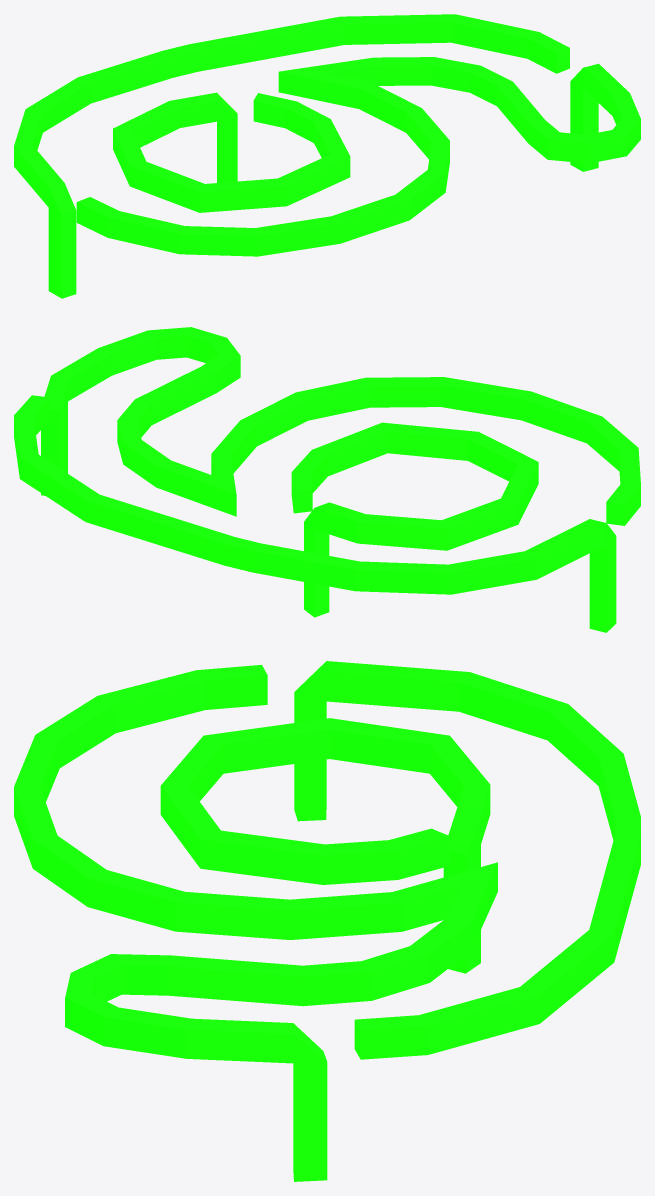
Rendered from Number_3D_04_6.FBX.
3 renders of one model, top to bottom at view 1: azimuth 30°, elevation 25°; view 2: azimuth 150°, elevation 25°; view 3: azimuth 270°, elevation 25°, orthographic. The views are drawn at different scales.
Visible parts, largest first — view 1: Number_3D_04_6; view 2: Number_3D_04_6; view 3: Number_3D_04_6.
Boxes of the visible parts, box(x1,y1,x2,y2) form: Number_3D_04_6: box(14, 14, 640, 298); Number_3D_04_6: box(14, 327, 640, 632); Number_3D_04_6: box(14, 661, 640, 1181).
Bounding box in the file's own units: 68.32 × 12.63 × 48.53.
